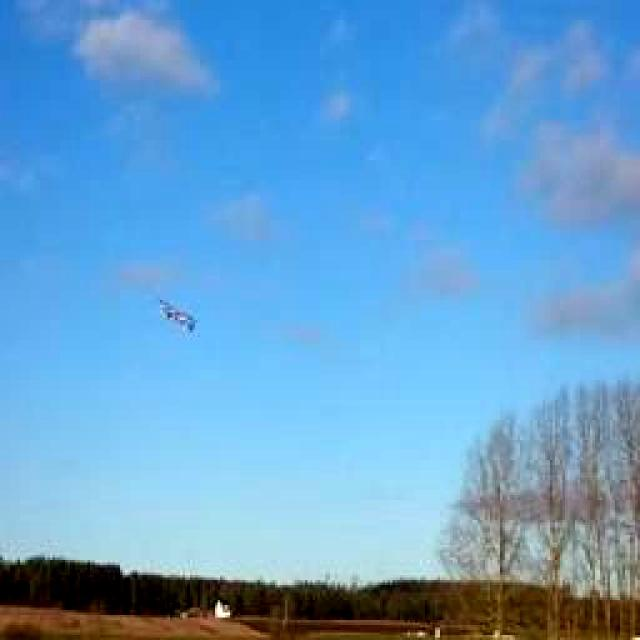bird: (139, 286, 216, 346)
